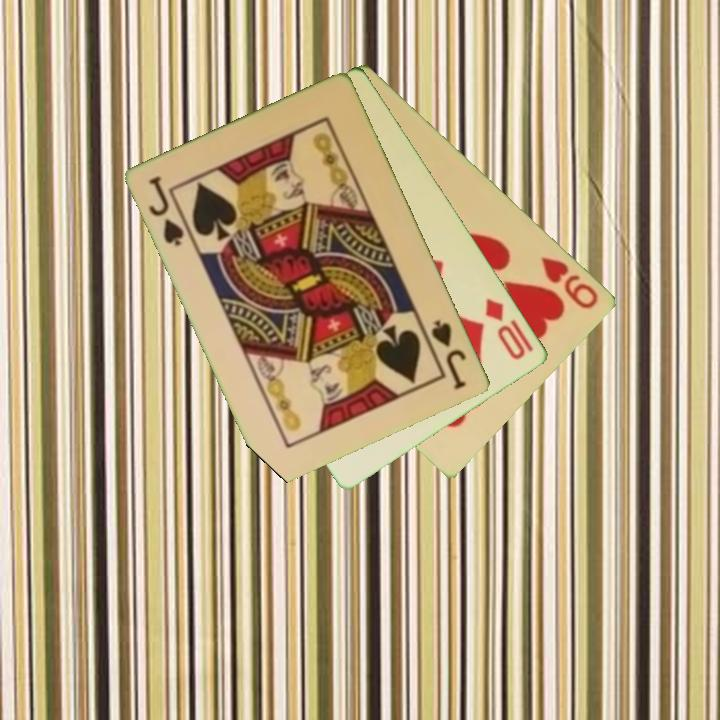10d: (482, 294, 529, 363)
9h: (537, 253, 602, 312)
Js: (146, 172, 195, 250), (428, 316, 470, 393)
